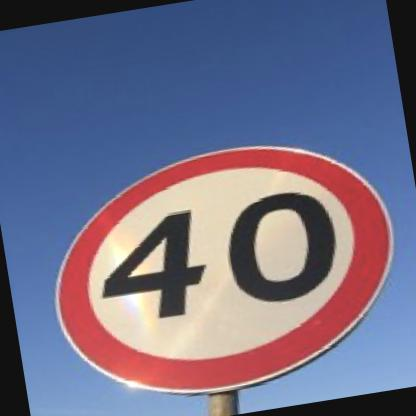speedlimit: (29, 124, 414, 416)
